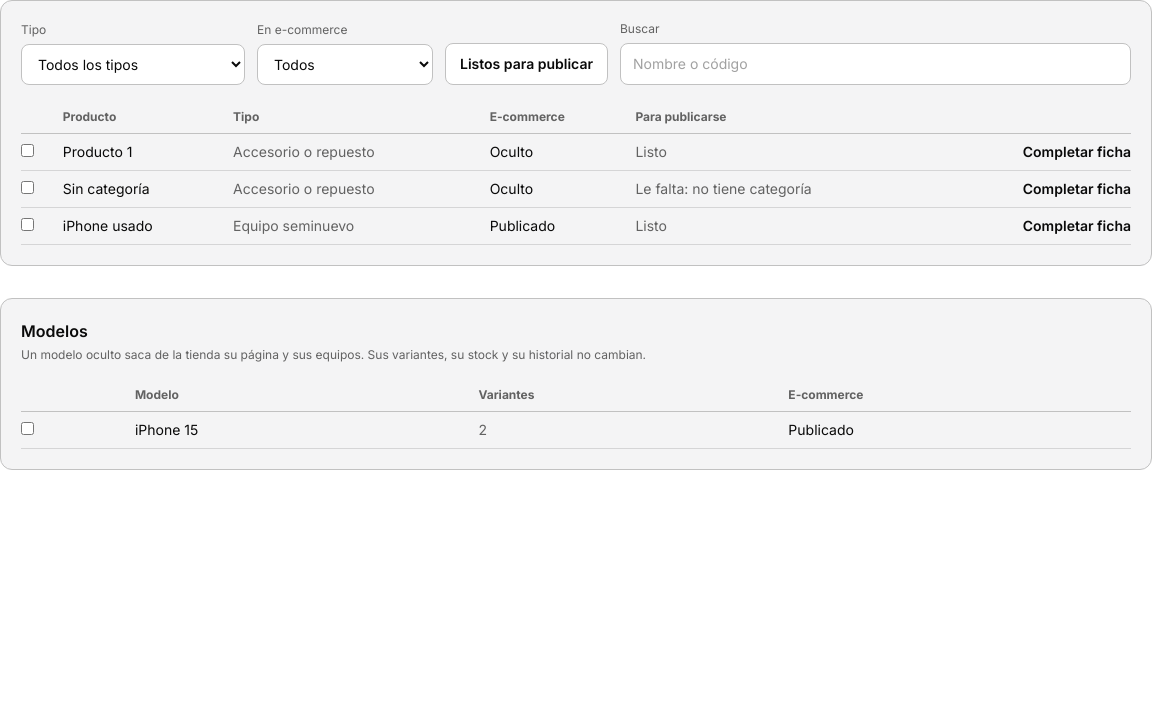
Publicación e-commerce › publica u oculta modelos enteros
The image size is (1152, 720).
Click the checkbox named "Seleccionar modelo iPhone 15".
click(28, 428)  # box [21,422,34,435]
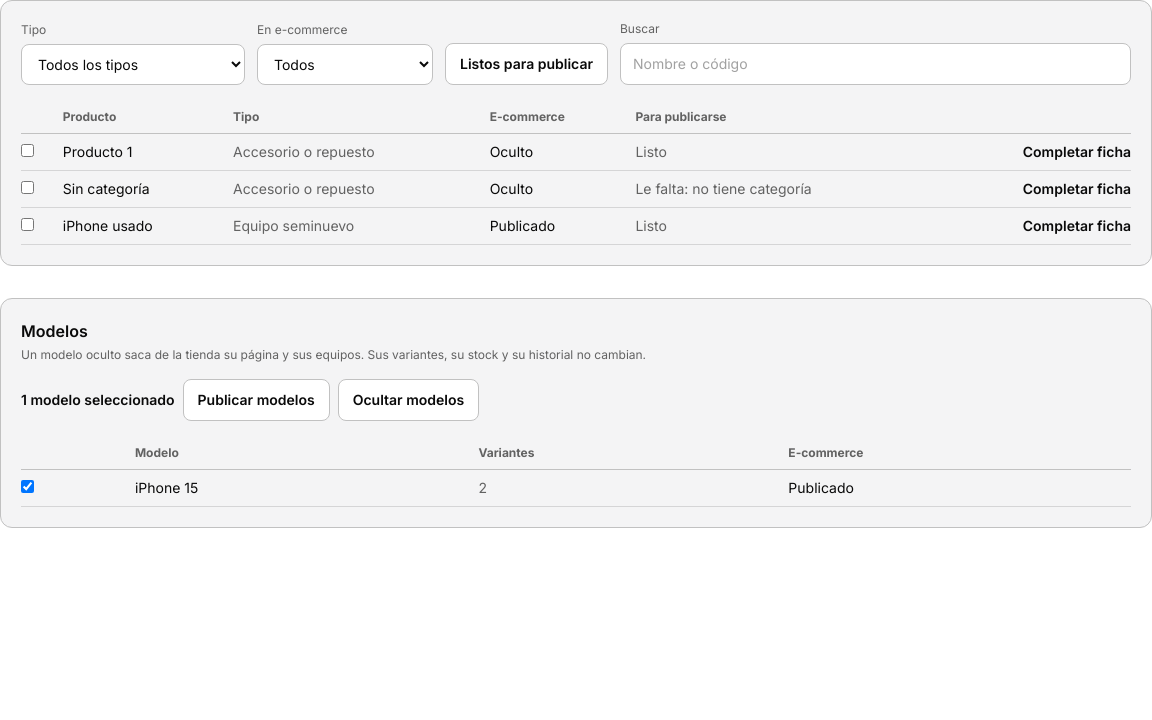
Click the button "Ocultar modelos".
click(408, 400)  # box [338,379,479,421]
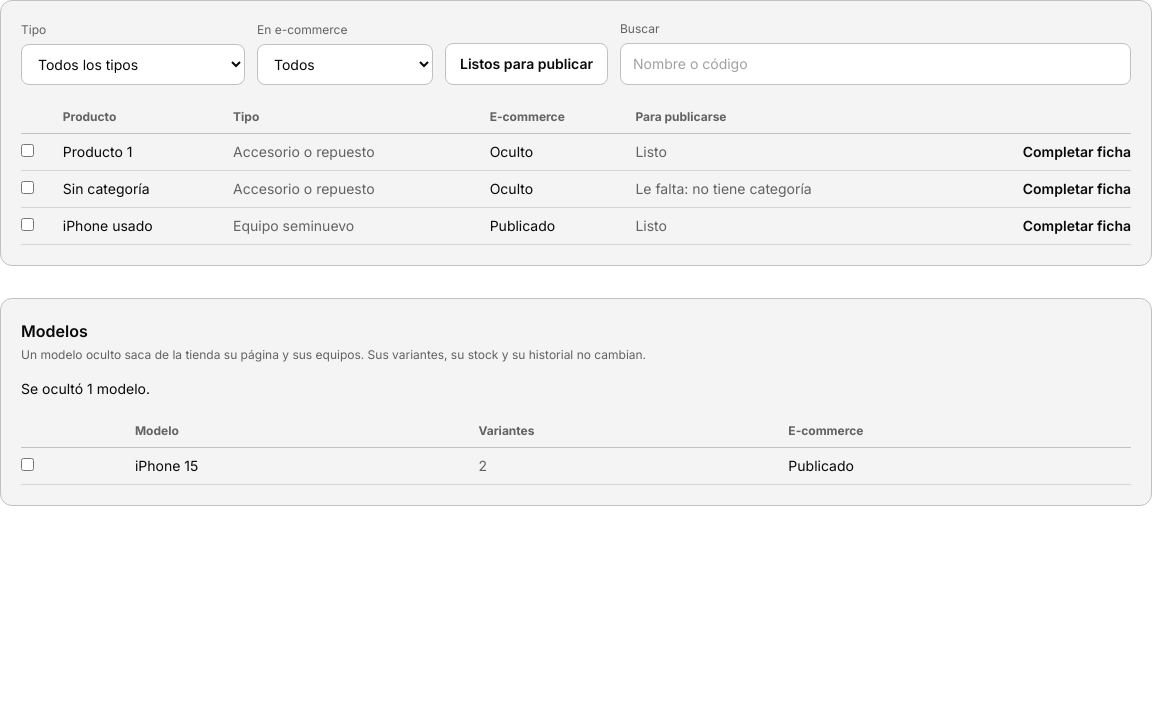
Result: the text "Se ocultó 1 modelo." is shown at [21,380,150,397]
